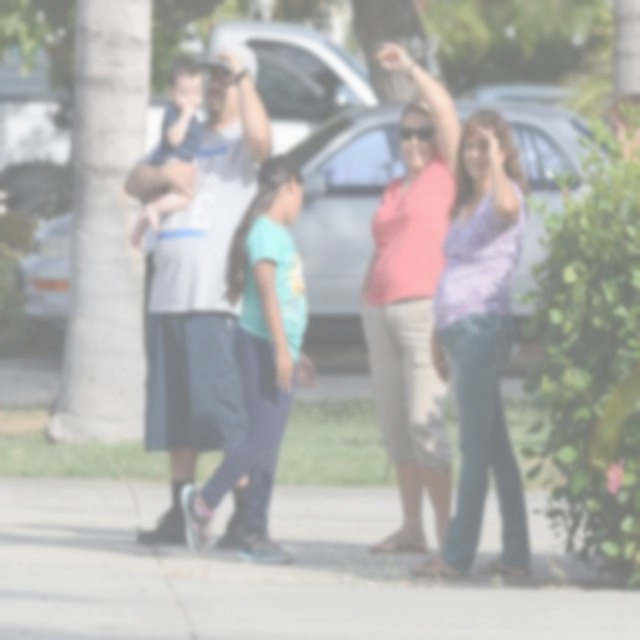pessoa: (130, 37, 275, 554), (406, 102, 538, 586), (178, 150, 320, 570), (354, 38, 462, 562), (124, 51, 208, 254), (600, 92, 639, 185)
